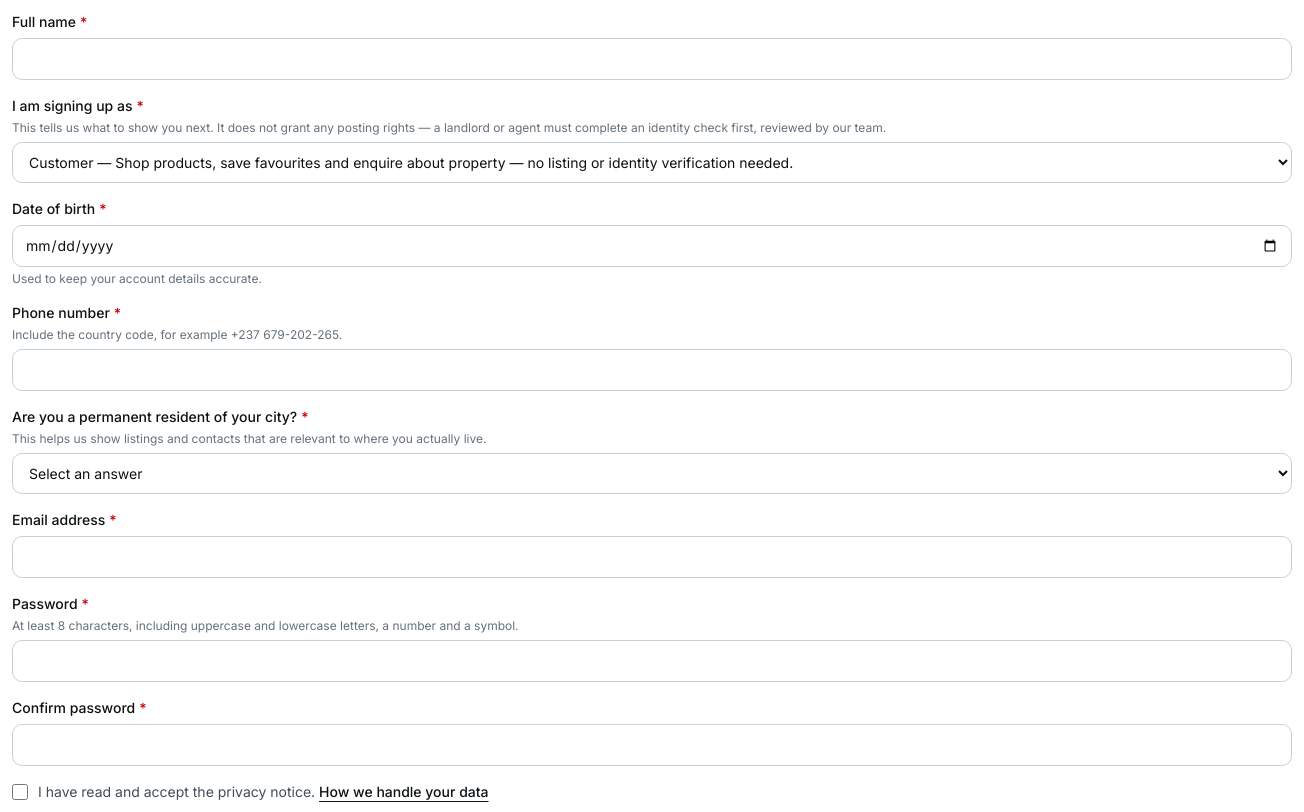
Scenario: SignUpForm role and residency dropdowns › switches the age hint when a capability role is chosen
Expected: the text "Used to keep your account details accurate." is shown, [12,271,262,286]
Expected: the text "18 or older" is not shown
Select "Landlord / Property Owner — List and manage property you own. Requires identity " in the dropdown labelled "I am signing up as*" at (652,162), box [12,142,1292,183]
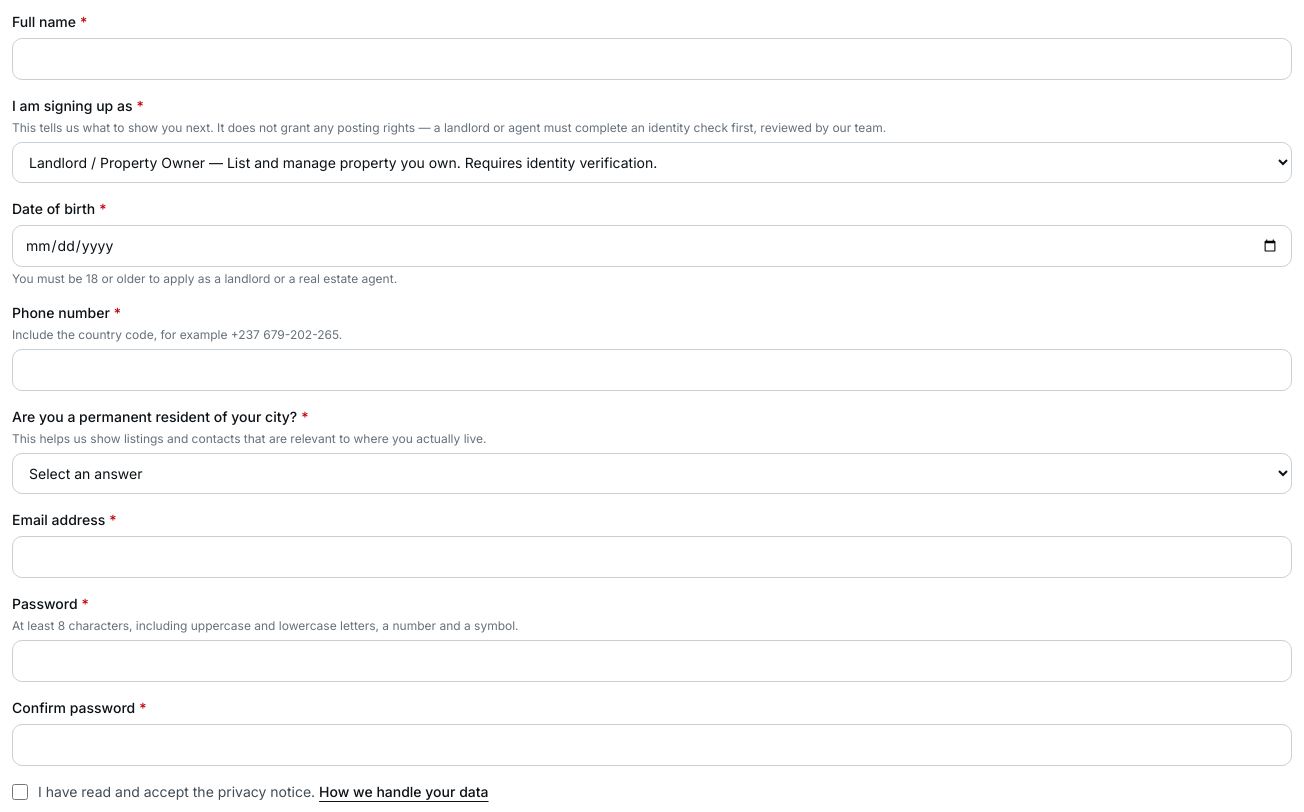
Result: the text "18 or older" is shown at [12,271,397,286]
Result: the text "keep your account details accurate" is gone
